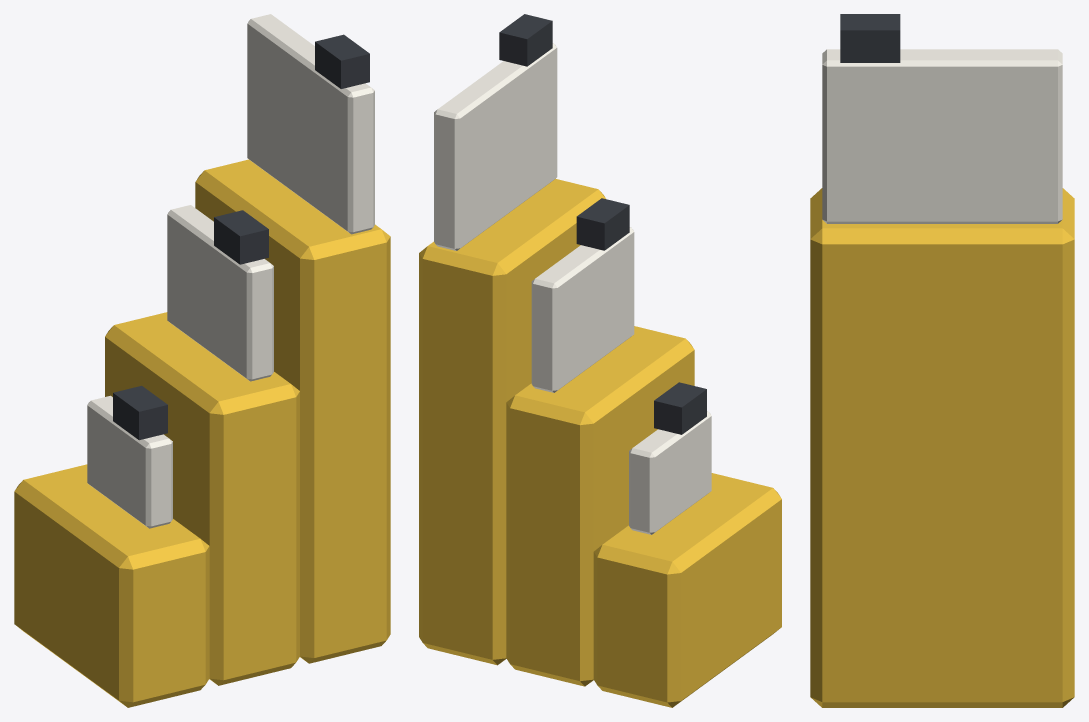
File: delegation_m0_2.glb
The picture shows the model from 3 angles, left to right: view 1: azimuth 30°, elevation 25°; view 2: azimuth 150°, elevation 25°; view 3: azimuth 270°, elevation 25°; orthographic projection. The views are drawn at different scales.
Parts seen in each view (by area): view 1: delegation_m0_2_mesh; view 2: delegation_m0_2_mesh; view 3: delegation_m0_2_mesh.
Part boxes in pixels (x1,y1,x2,y2): delegation_m0_2_mesh: (14,14,390,707); delegation_m0_2_mesh: (419,14,781,707); delegation_m0_2_mesh: (810,14,1074,707).
Size of the model in its own units: 0.3 by 0.62 by 0.22.
